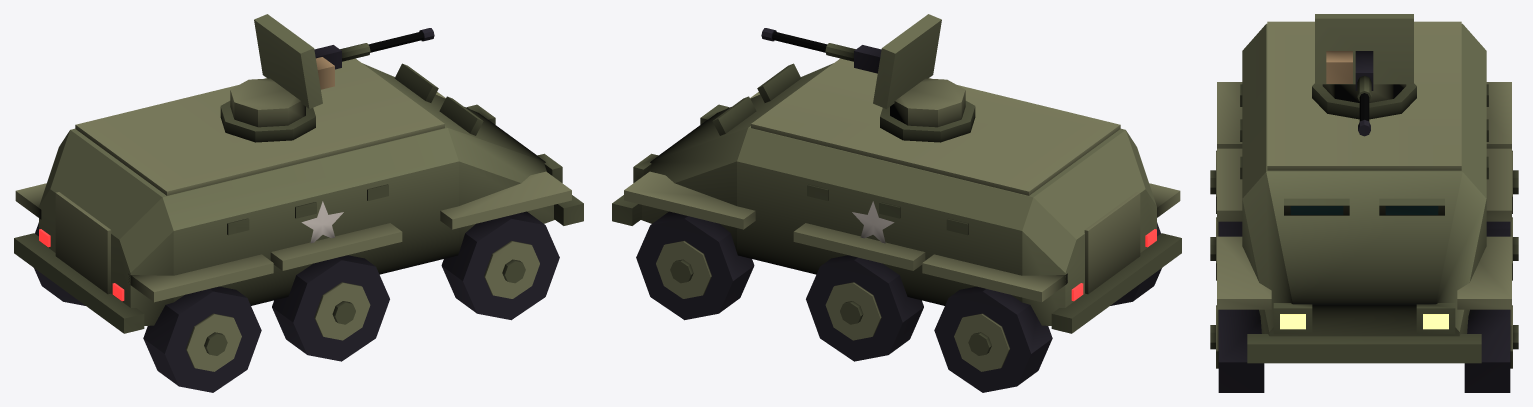
Rendered from veh.military-apc.lod2.glb.
3 views of the same model, side by side, from view 1: azimuth 30°, elevation 25°; view 2: azimuth 150°, elevation 25°; view 3: azimuth 270°, elevation 25° (orthographic). The views are drawn at different scales.
Visible parts, largest first — view 1: body, wheelRL, wheelFL, wheelML, turret, gun, wheelRR; view 2: body, wheelRR, wheelFR, wheelMR, turret, gun, wheelRL; view 3: body, turret, wheelFL, wheelFR, gun, lightsFront, wheelML, wheelMR.
Boxes of the visible parts, left/top/right/bottom form: body: left=14, top=58, right=583, bottom=333; wheelRL: left=143, top=286, right=261, bottom=392; wheelFL: left=441, top=211, right=559, bottom=320; wheelML: left=272, top=255, right=389, bottom=361; turret: left=220, top=14, right=322, bottom=142; gun: left=314, top=28, right=434, bottom=89; wheelRR: left=34, top=222, right=85, bottom=305; body: left=612, top=58, right=1181, bottom=333; wheelRR: left=934, top=286, right=1052, bottom=392; wheelFR: left=636, top=211, right=754, bottom=320; wheelMR: left=806, top=255, right=923, bottom=361; turret: left=873, top=14, right=975, bottom=142; gun: left=761, top=28, right=881, bottom=73; wheelRL: left=1110, top=222, right=1161, bottom=305; body: left=1217, top=21, right=1511, bottom=363; turret: left=1312, top=14, right=1416, bottom=119; wheelFL: left=1210, top=305, right=1264, bottom=392; wheelFR: left=1464, top=305, right=1518, bottom=392; gun: left=1326, top=51, right=1373, bottom=136; lightsFront: left=1280, top=314, right=1448, bottom=329; wheelML: left=1210, top=217, right=1242, bottom=280; wheelMR: left=1486, top=217, right=1518, bottom=280.
Bounding box in the file's own units: 5.69 × 3.26 × 3.11.
